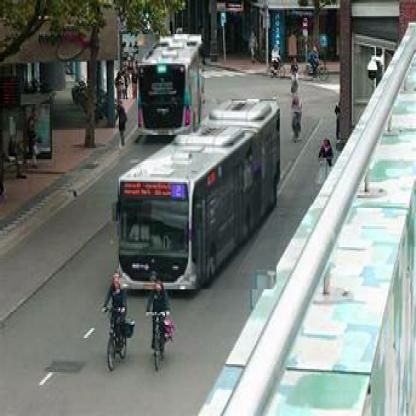bus: (119, 100, 278, 292), (138, 35, 202, 138)
motorbike: (289, 99, 305, 143), (291, 77, 302, 110)
